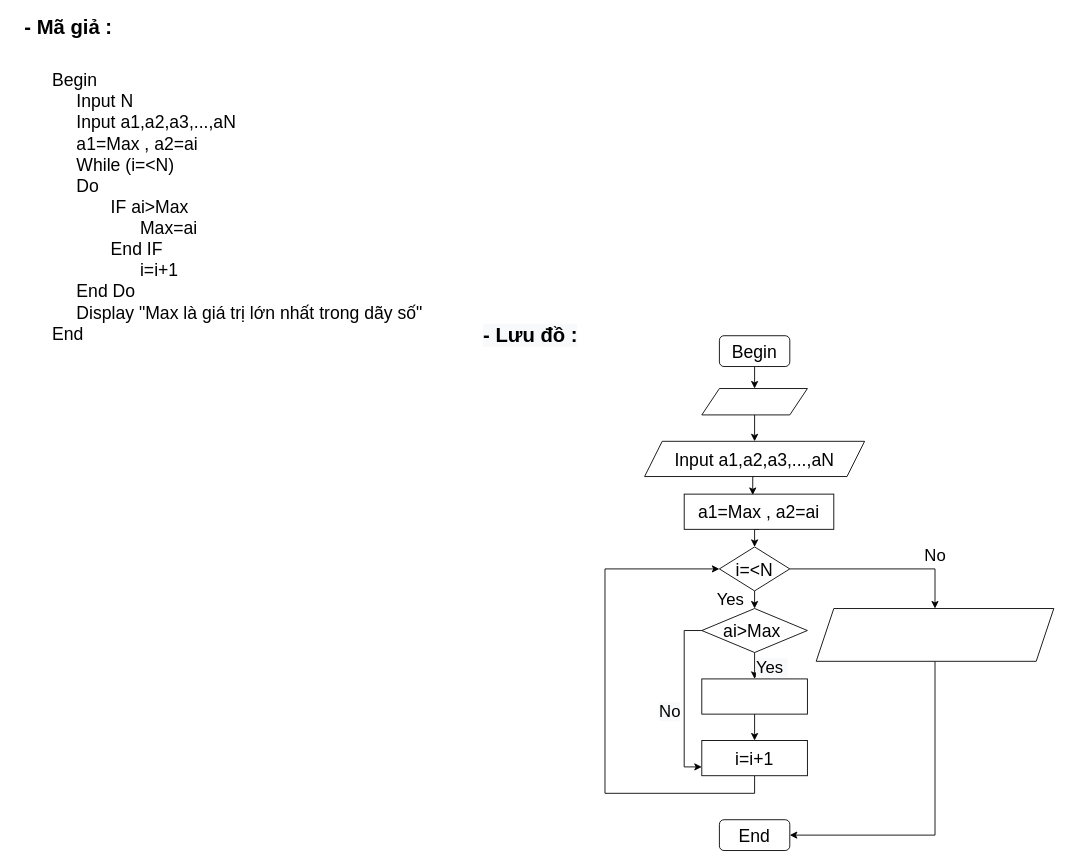
The diagram is 1069 pixels wide and 866 high, and some of its shapes have lost their labels. Here are the shapes that lost their labels. From the top down, the box of each, then its label:
(701, 388, 807, 415): Input N
(815, 608, 1054, 661): Display "Max là giá trị lớn nhất trong dãy số"
(701, 678, 807, 714): Max=ai
